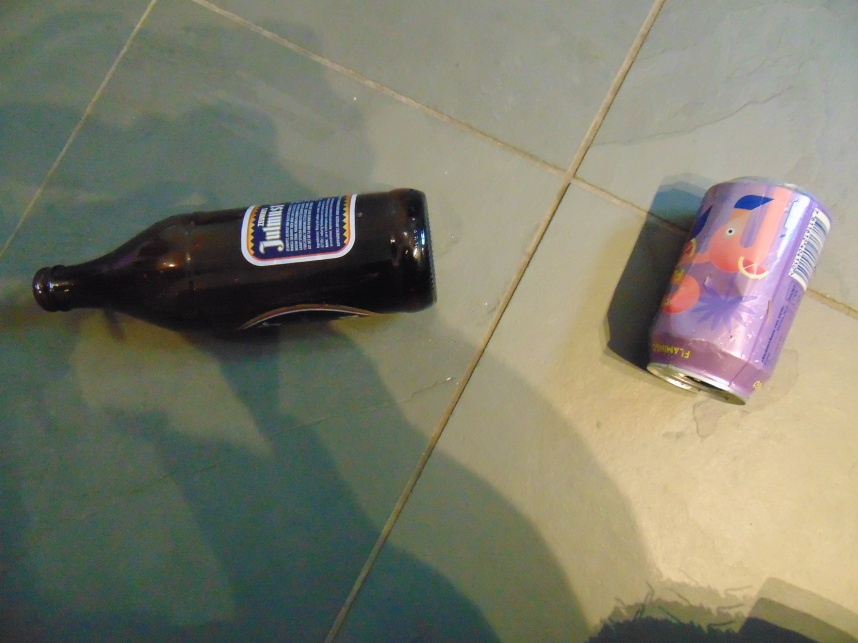glass_bottle: (32, 186, 439, 336)
metal_can: (641, 175, 835, 407)
